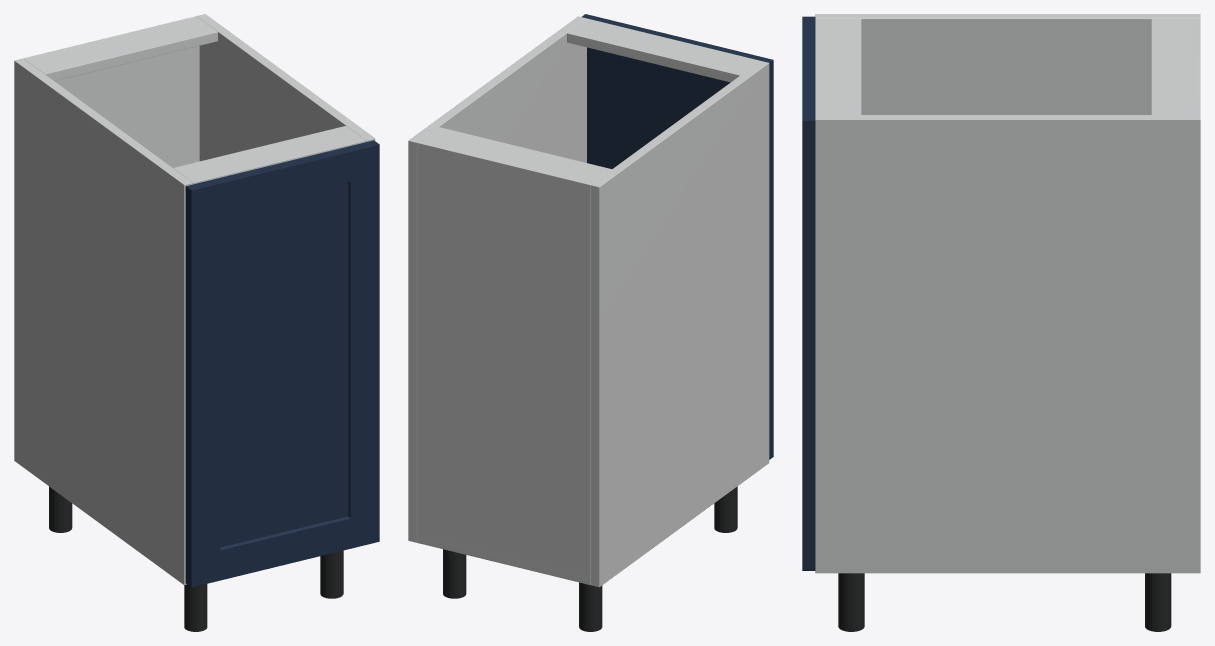
The model's file is oppein-pb-bss-b15fh.glb.
The picture shows the model from 3 angles, left to right: view 1: azimuth 30°, elevation 25°; view 2: azimuth 150°, elevation 25°; view 3: azimuth 270°, elevation 25°; orthographic projection. The views are drawn at different scales.
Visible parts, largest first — view 1: Door, Cabinet side, Cabinet side.001, Cabinet back, Top support rail, Top support rail.001, Adjustable foot.001, Adjustable foot.003, Adjustable foot; view 2: Cabinet side, Cabinet back, Cabinet side.001, Door, Top support rail.001, Top support rail, Cabinet bottom, Adjustable foot, Adjustable foot.002, Adjustable foot.001; view 3: Cabinet side.001, Cabinet side, Door, Top support rail.001, Top support rail, Adjustable foot.002, Adjustable foot.003, Cabinet back.
Part boxes in pixels (left/top/right/bottom): Door: left=185, top=140, right=379, bottom=587; Cabinet side: left=14, top=58, right=192, bottom=585; Cabinet side.001: left=197, top=14, right=375, bottom=161; Cabinet back: left=23, top=16, right=199, bottom=167; Top support rail: left=26, top=18, right=217, bottom=80; Top support rail.001: left=173, top=126, right=366, bottom=184; Adjustable foot.001: left=184, top=584, right=207, bottom=631; Adjustable foot.003: left=320, top=550, right=343, bottom=598; Adjustable foot: left=49, top=486, right=72, bottom=532; Cabinet side: left=590, top=61, right=769, bottom=587; Cabinet back: left=417, top=140, right=593, bottom=584; Cabinet side.001: left=408, top=16, right=586, bottom=542; Door: left=582, top=14, right=773, bottom=459; Top support rail.001: left=567, top=18, right=759, bottom=82; Top support rail: left=421, top=127, right=611, bottom=183; Cabinet bottom: left=417, top=534, right=590, bottom=584; Adjustable foot: left=579, top=582, right=602, bottom=631; Adjustable foot.002: left=443, top=549, right=466, bottom=598; Adjustable foot.001: left=714, top=486, right=737, bottom=532; Cabinet side.001: left=815, top=115, right=1200, bottom=573; Cabinet side: left=815, top=14, right=1200, bottom=114; Door: left=802, top=16, right=815, bottom=570; Top support rail.001: left=815, top=19, right=861, bottom=114; Top support rail: left=1151, top=19, right=1193, bottom=114; Adjustable foot.002: left=1145, top=573, right=1171, bottom=631; Adjustable foot.003: left=838, top=573, right=864, bottom=631; Cabinet back: left=1193, top=19, right=1200, bottom=114.
Size of the model in its own units: 0.381 by 0.8763 by 0.6064.
